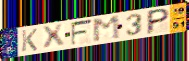3: (125, 13, 144, 37)
F: (70, 18, 95, 47)
K: (20, 27, 39, 53)
M: (91, 14, 122, 43)
P: (145, 7, 172, 36)
X: (41, 23, 67, 51)
